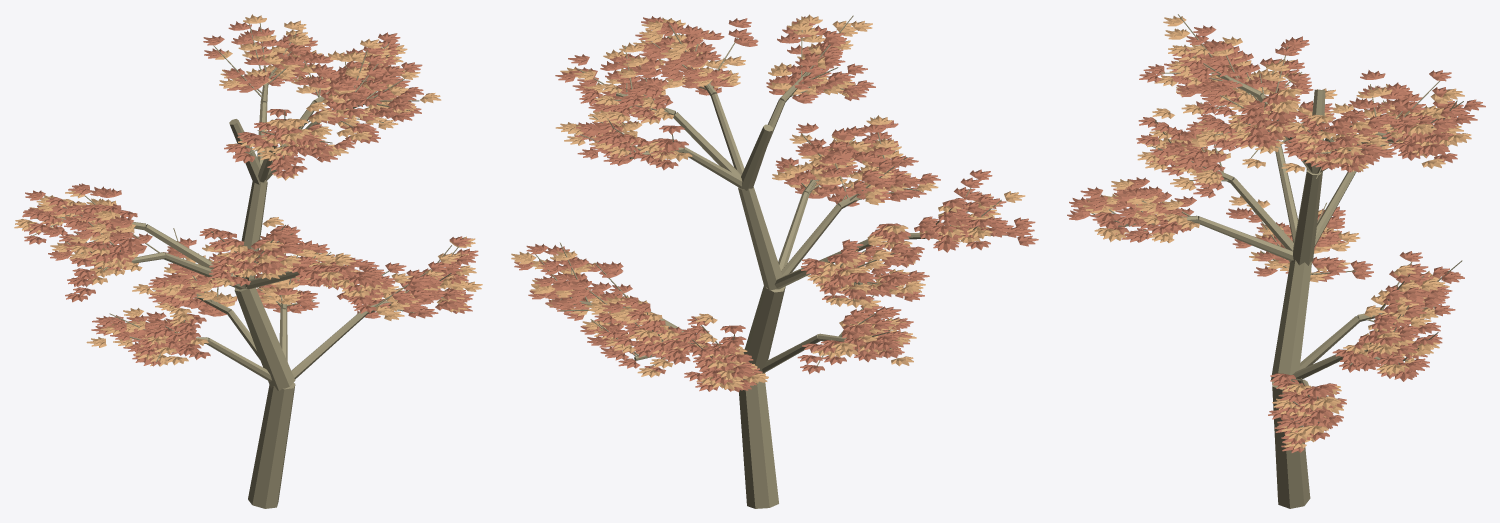
Rendered from reference-public_models_vegetation_red-maple.glb.
The picture shows the model from 3 angles, left to right: view 1: azimuth 30°, elevation 25°; view 2: azimuth 150°, elevation 25°; view 3: azimuth 270°, elevation 25°; orthographic projection. The views are drawn at different scales.
Visible parts, largest first — view 1: Sunwen_red-maple; view 2: Sunwen_red-maple; view 3: Sunwen_red-maple.
Part boxes in pixels (box(x1,y1,x2,y2)): Sunwen_red-maple: box(14, 14, 482, 508); Sunwen_red-maple: box(511, 14, 1038, 508); Sunwen_red-maple: box(1067, 14, 1485, 508).
Bounding box in the file's own units: 5.1 × 4.7 × 3.79.
